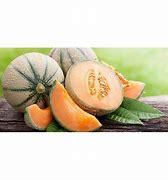Melon Ripe: (68, 62, 124, 115), (50, 81, 102, 132)
